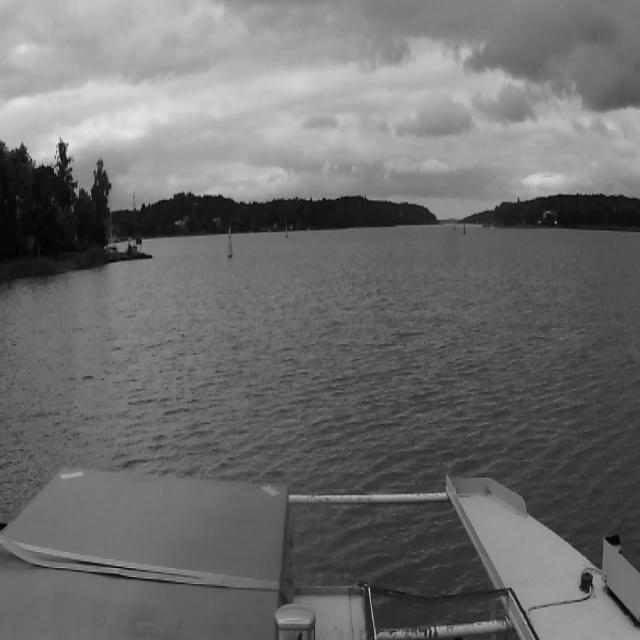buoy: (226, 227, 233, 260), (285, 228, 291, 239), (450, 221, 456, 231), (464, 222, 468, 236)
